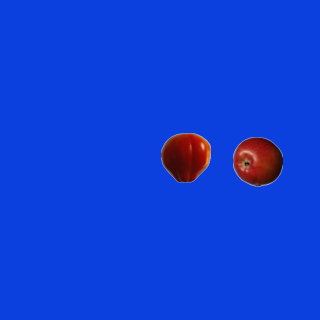Apple Braeburn: (232, 136, 282, 186)
Tomato 1: (160, 132, 210, 182)
